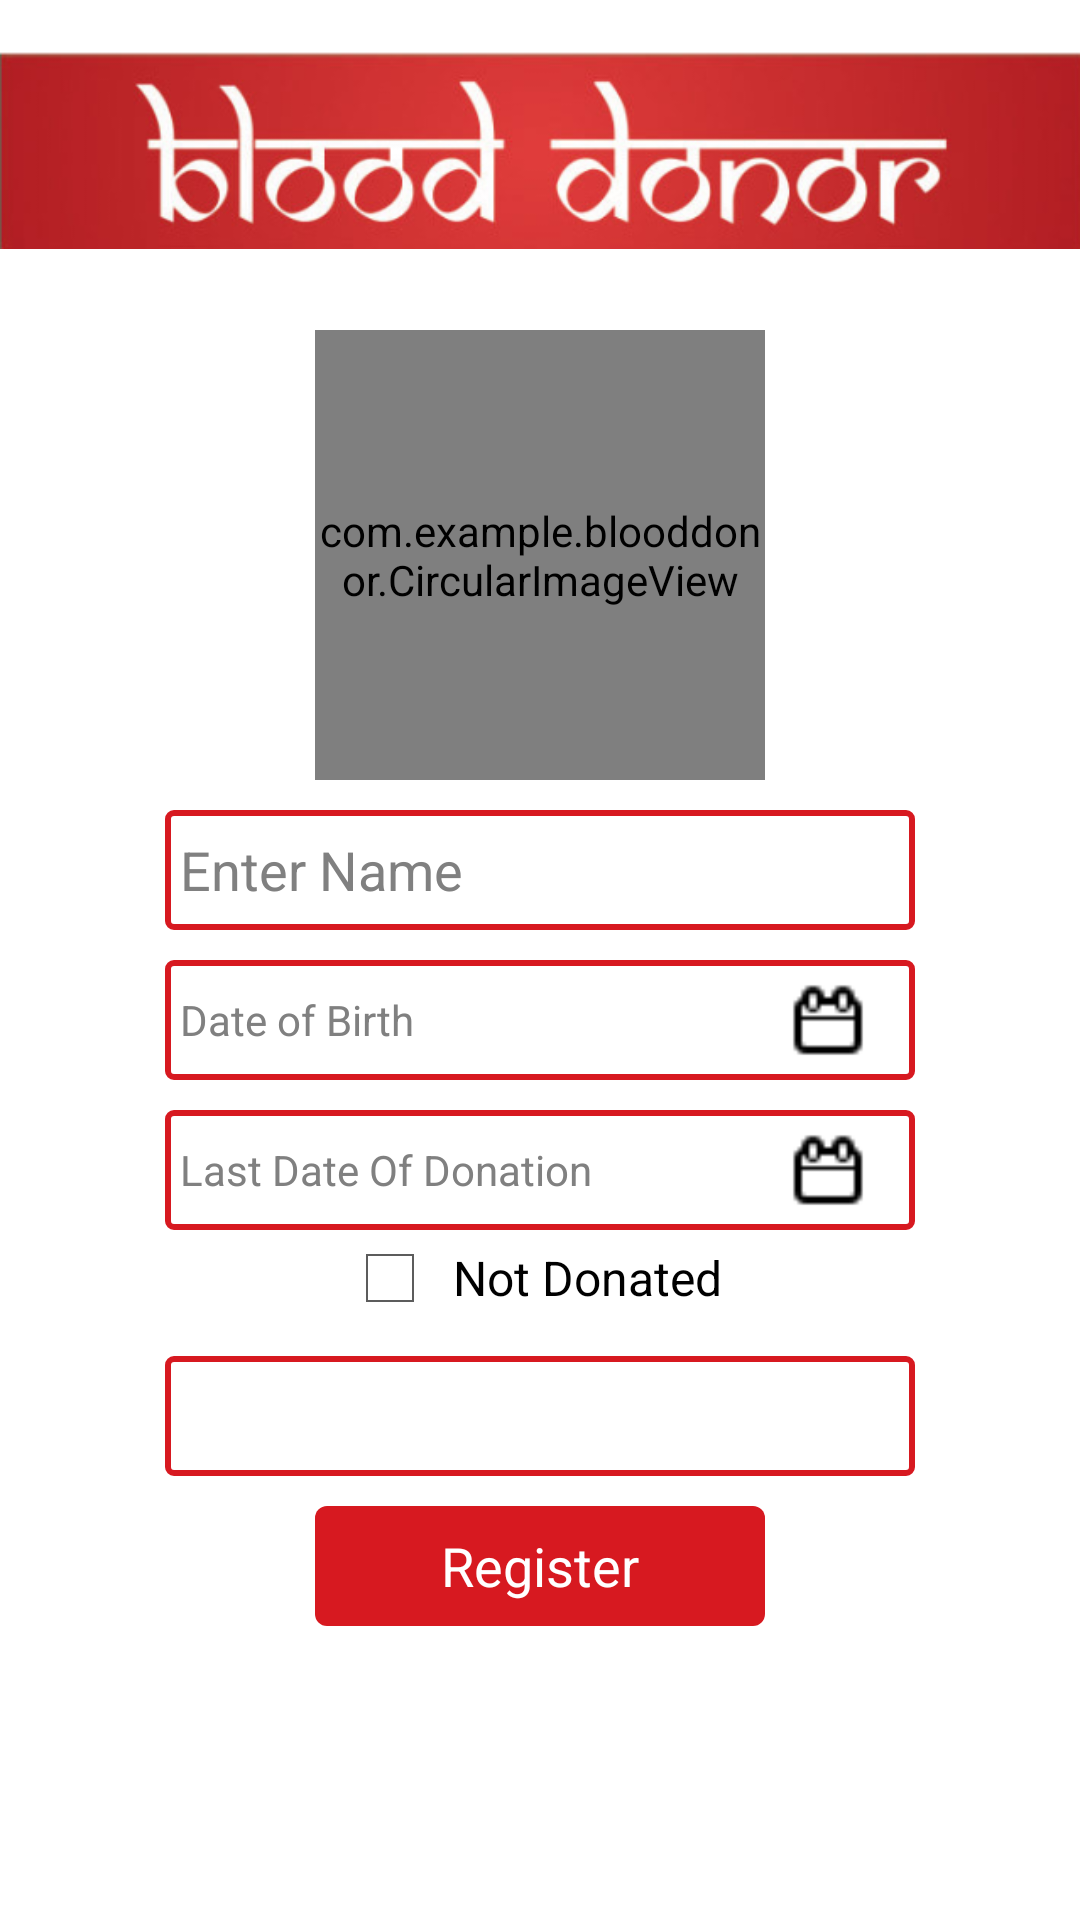

Named icons in this screenshot (1080px×1920px) and their bounding boxes, bbox(x1, y1, x2, y2):
calander: bbox(793, 985, 863, 1055), bbox(793, 1135, 863, 1205)
